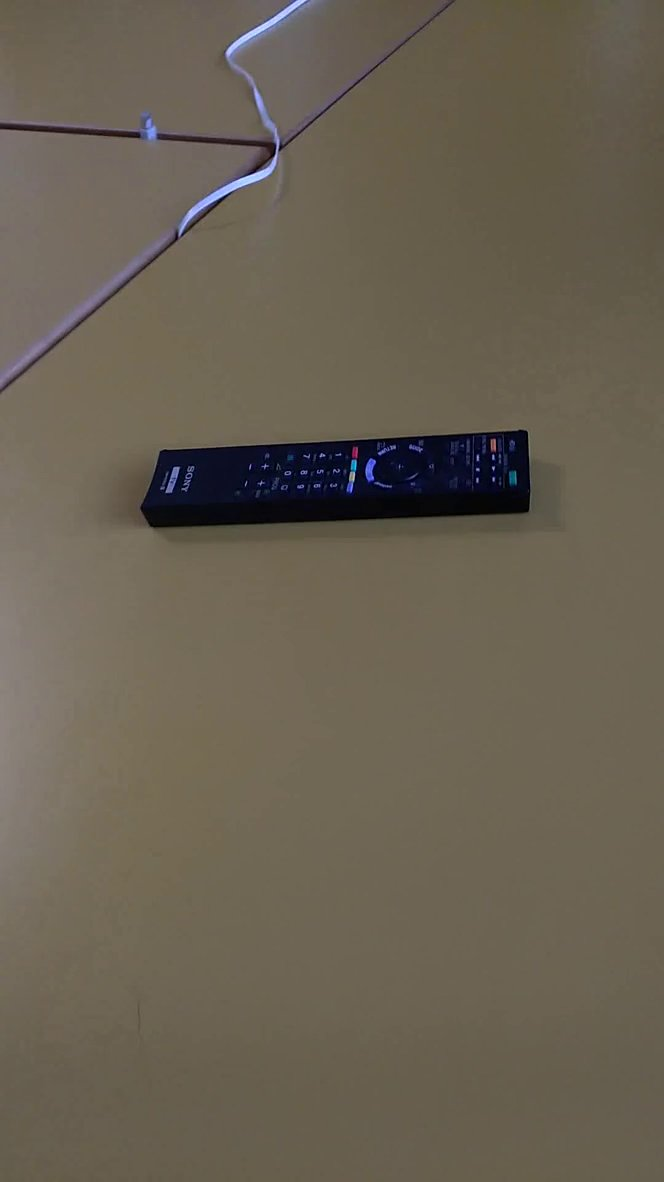remote: (105, 416, 557, 535)
